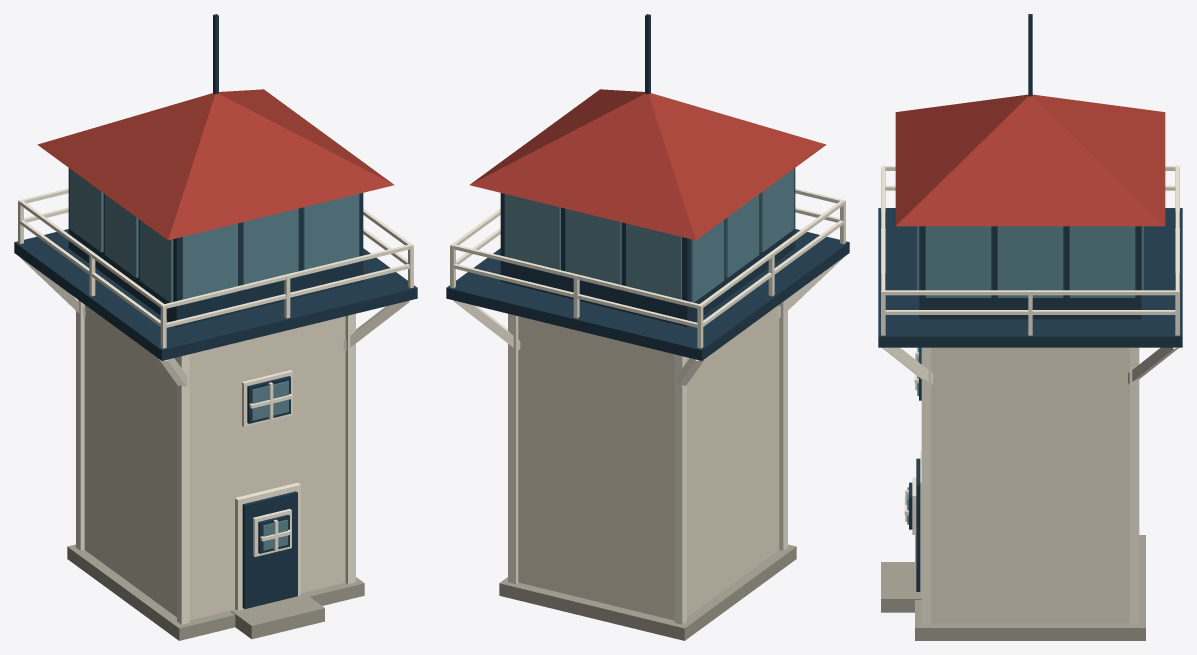
The model's file is watch_tower.glb.
The picture shows the model from 3 angles, left to right: view 1: azimuth 30°, elevation 25°; view 2: azimuth 150°, elevation 25°; view 3: azimuth 270°, elevation 25°; orthographic projection. The views are drawn at different scales.
Parts seen in each view (by area): view 1: watch_tower; view 2: watch_tower; view 3: watch_tower.
Part boxes in pixels (x1,y1,x2,y2): watch_tower: (14,14,417,640); watch_tower: (446,14,849,640); watch_tower: (878,14,1182,640).
Size of the model in its own units: 6 by 12.6 by 6.
